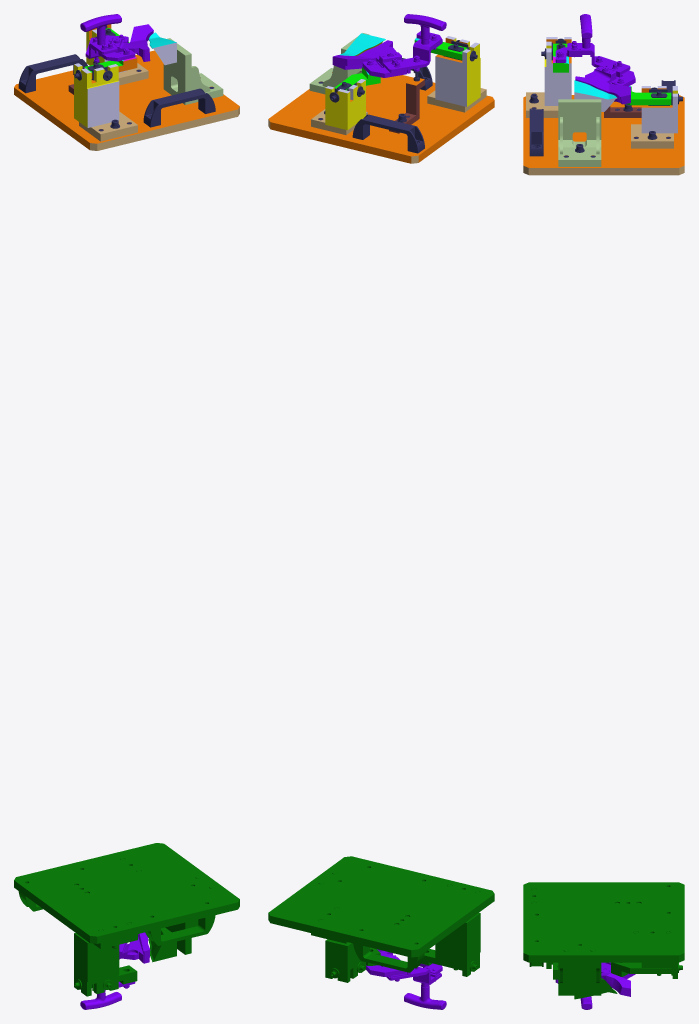
Rendered from TM146638_FENDER_LWR_MOOL_CHK_MASTER_K00_260925_JIG.obj.
3 renders of one model, left to right at view 1: azimuth 30°, elevation 25°; view 2: azimuth 150°, elevation 25°; view 3: azimuth 270°, elevation 25°, orthographic.
Visible parts, largest first — view 1: Shell_240, Shell_130, Shell_137, Shell_247, Shell_233, Shell_131, Shell_132, Shell_241, Shell_070, Shell_138, Shell_005, Shell_234 (+1 smaller); view 2: Shell_240, Shell_130, Shell_137, Shell_247, Shell_182, Shell_292, Shell_132, Shell_070, Shell_242, Shell_129, Shell_233, Shell_225 (+3 smaller); view 3: Shell_240, Shell_130, Shell_233, Shell_343, Shell_137, Shell_182, Shell_070, Shell_181, Shell_131, Shell_129, Shell_234, Shell_293 (+3 smaller).
Part boxes in pixels (bbox=[...]): Shell_240: bbox=[14, 843, 239, 943]; Shell_130: bbox=[14, 50, 239, 150]; Shell_137: bbox=[74, 63, 119, 127]; Shell_247: bbox=[74, 933, 119, 996]; Shell_233: bbox=[163, 38, 223, 104]; Shell_131: bbox=[143, 88, 215, 127]; Shell_132: bbox=[18, 54, 87, 93]; Shell_241: bbox=[145, 915, 215, 945]; Shell_070: bbox=[111, 24, 153, 61]; Shell_138: bbox=[79, 111, 137, 141]; Shell_005: bbox=[119, 932, 150, 963]; Shell_234: bbox=[148, 32, 176, 65]; Shell_240: bbox=[268, 856, 494, 957]; Shell_130: bbox=[268, 75, 494, 163]; Shell_137: bbox=[435, 36, 480, 106]; Shell_247: bbox=[435, 912, 480, 976]; Shell_182: bbox=[325, 79, 365, 130]; Shell_292: bbox=[325, 939, 365, 982]; Shell_132: bbox=[352, 114, 424, 153]; Shell_070: bbox=[332, 40, 401, 69]; Shell_242: bbox=[353, 943, 424, 972]; Shell_129: bbox=[377, 35, 441, 73]; Shell_233: bbox=[309, 33, 369, 94]; Shell_225: bbox=[389, 77, 424, 133]; Shell_240: bbox=[523, 882, 684, 962]; Shell_130: bbox=[523, 95, 684, 175]; Shell_233: bbox=[558, 99, 601, 166]; Shell_343: bbox=[558, 962, 601, 995]; Shell_137: bbox=[544, 37, 571, 105]; Shell_182: bbox=[641, 86, 677, 133]; Shell_070: bbox=[575, 66, 630, 104]; Shell_181: bbox=[631, 124, 673, 148]; Shell_131: bbox=[529, 108, 543, 156]; Shell_129: bbox=[567, 43, 630, 83]; Shell_234: bbox=[574, 80, 617, 111]; Shell_293: bbox=[611, 962, 671, 976].
Bounding box in the file's own units: 320 × 2014 × 300.
